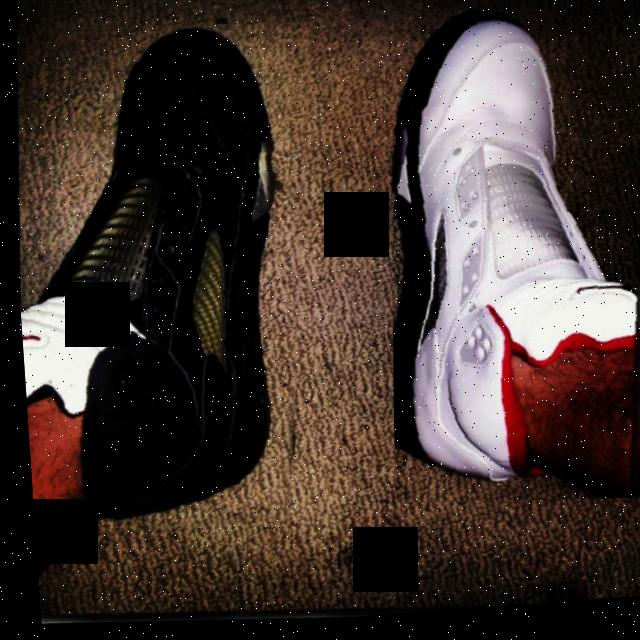shoe: (2, 11, 339, 557), (361, 0, 640, 522)
